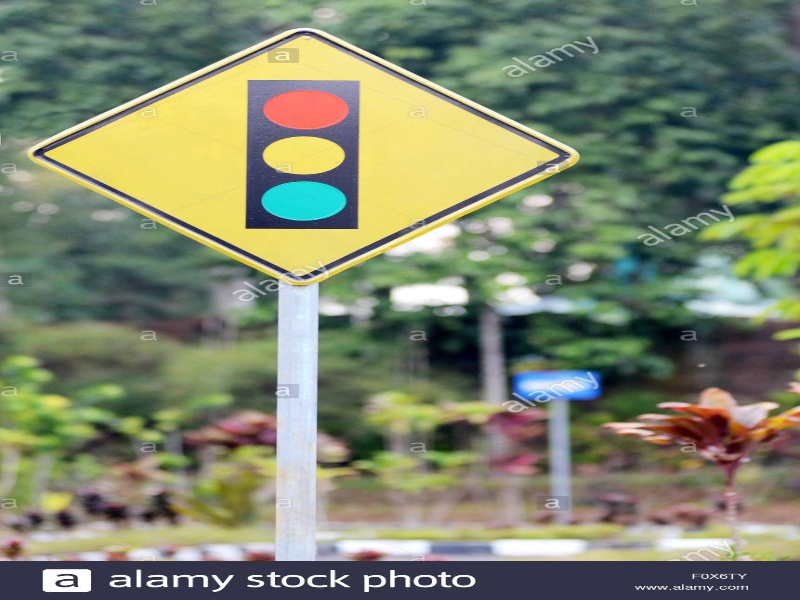traffic signal sign: (24, 23, 584, 290)
